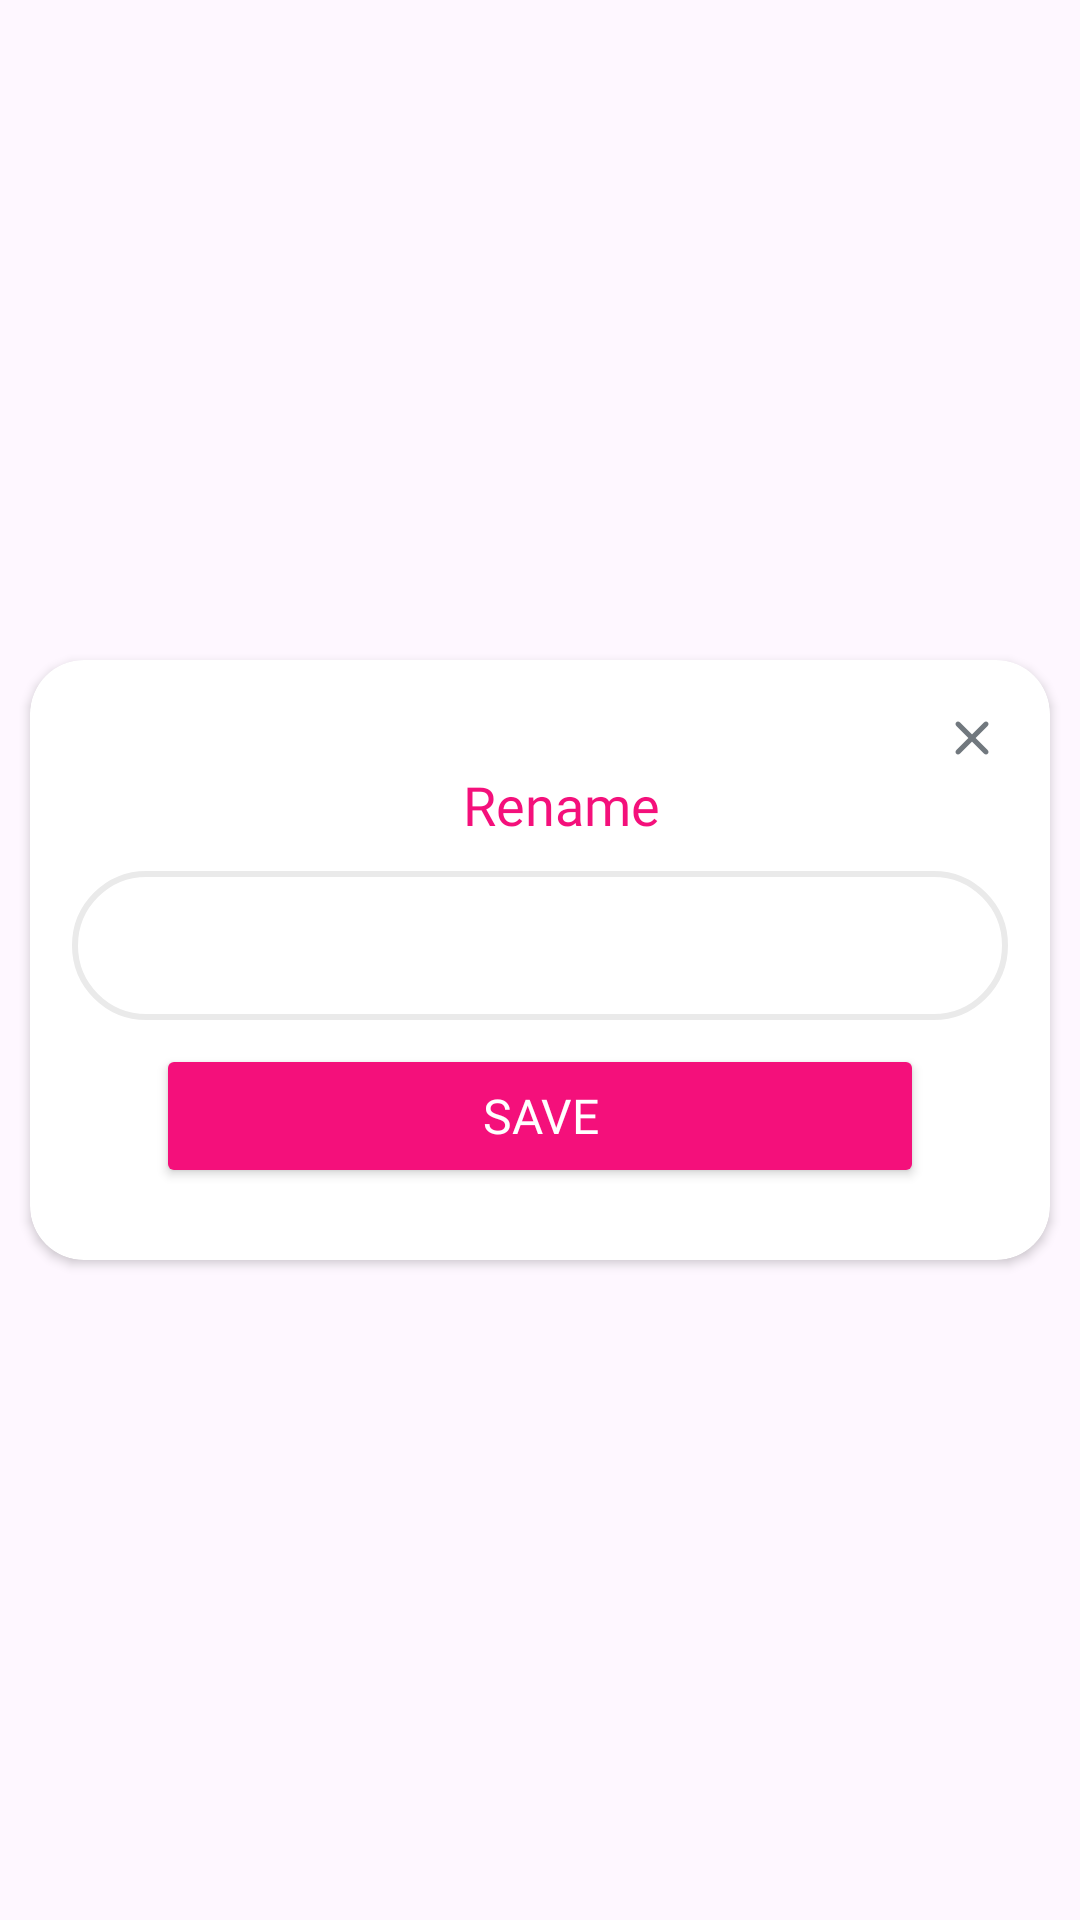

Named icons in this screenshot (1080px x 1920px) and their bounding boxes, bbox=[x1, y1, x2, y2]:
close: bbox=[955, 721, 989, 755]
